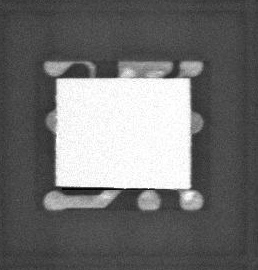DIE_BROKEN: (60, 185, 118, 190)
